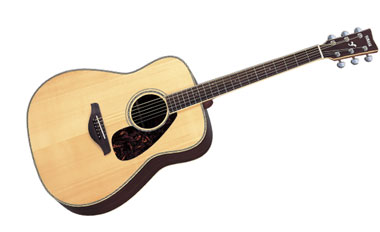guitar: (25, 27, 378, 217)
